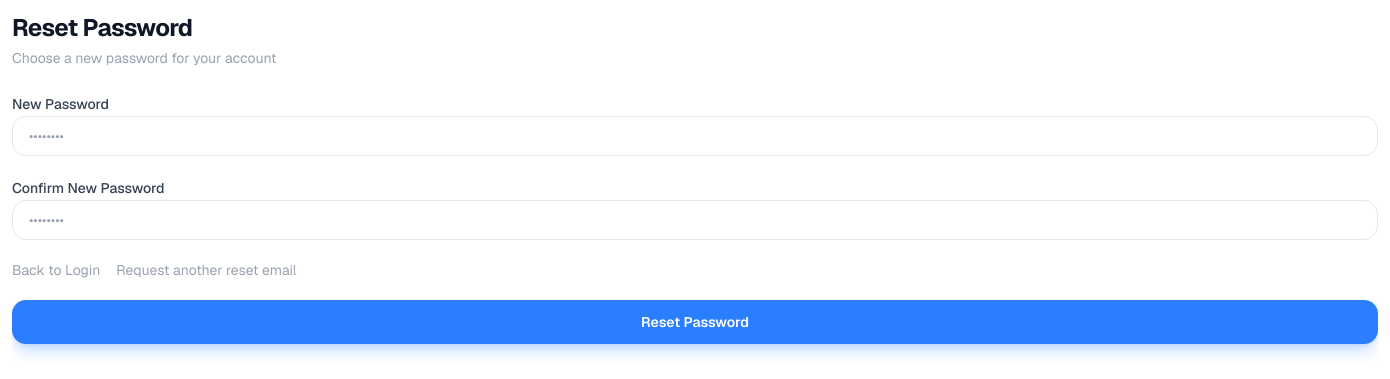
Scenario: ResetPasswordForm — Unit Tests › TC-RESET-10: button is disabled and shows loading text while form is submitting
Type "NewPass1!" into the password field labelled "New Password" at (695, 136), box [12,116,1378,156]
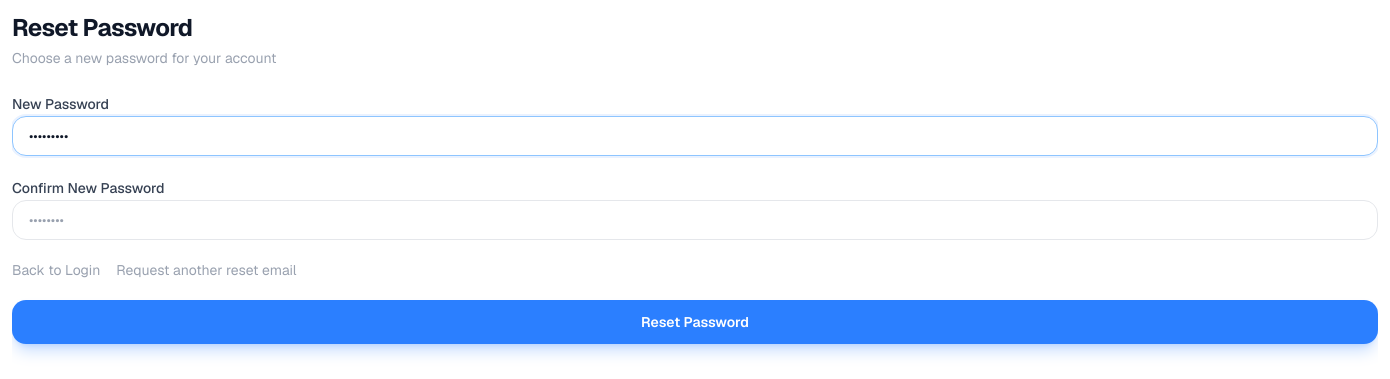
Type "NewPass1!" into the password field labelled "Confirm New Password" at (695, 220), box [12,200,1378,240]
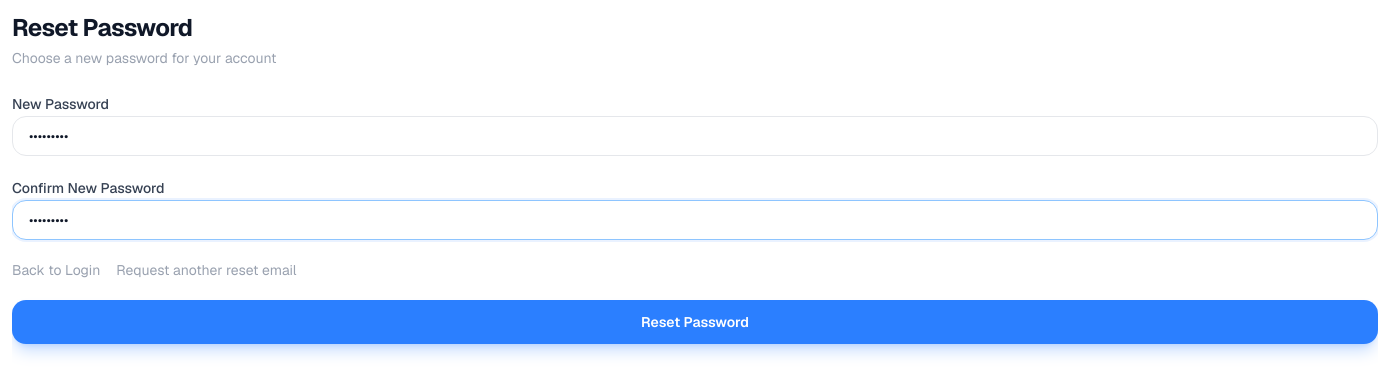
Click the button "Reset Password" at (695, 322), box [12,300,1378,344]
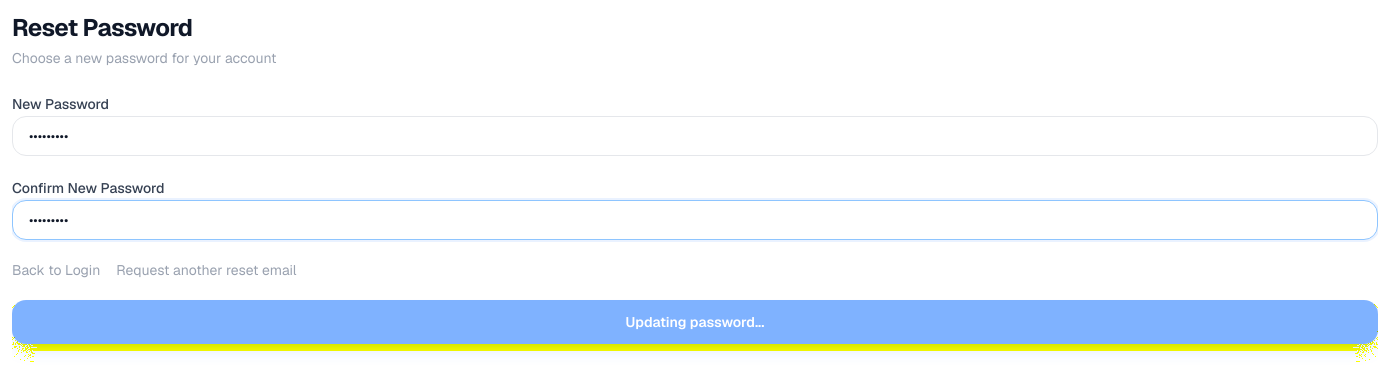
expect the button "Updating password..." is disabled: met, box [12,300,1378,344]
